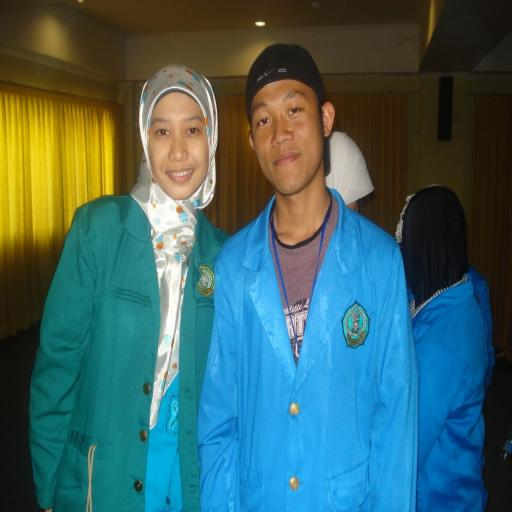Person: (226, 93, 410, 448), (43, 104, 223, 448), (380, 176, 504, 450)
no_goggle: (251, 138, 315, 163), (143, 151, 207, 176)
no_helmet: (391, 194, 475, 234), (244, 93, 328, 133), (134, 110, 218, 150)
none: (238, 224, 376, 440), (367, 240, 504, 456), (74, 220, 211, 436)
